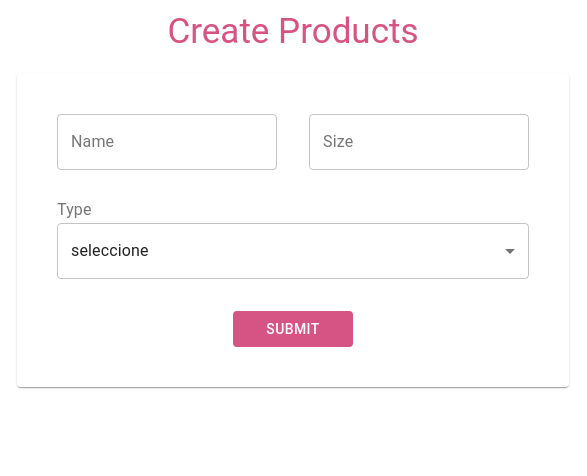
when de user submits the form and server returns an invalid request error › the form page must display the error message "The form is invalid, the fields [field1...fieldN] are required"
Click the button "Submit". click: (293, 329)
box: 233,311 -> 353,347
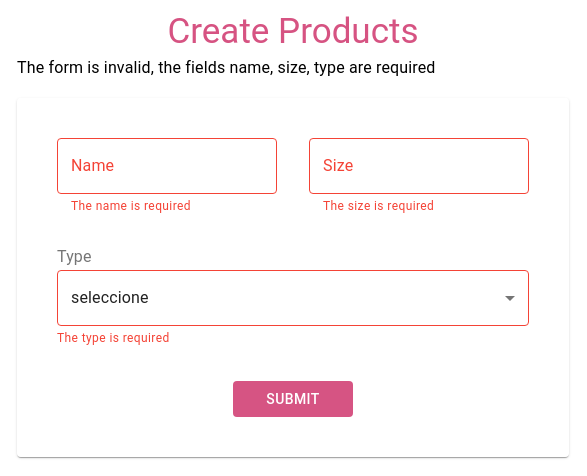
Now the text "The form is invalid, the fields name, size, type are required" is shown, box 17,58 -> 436,77
